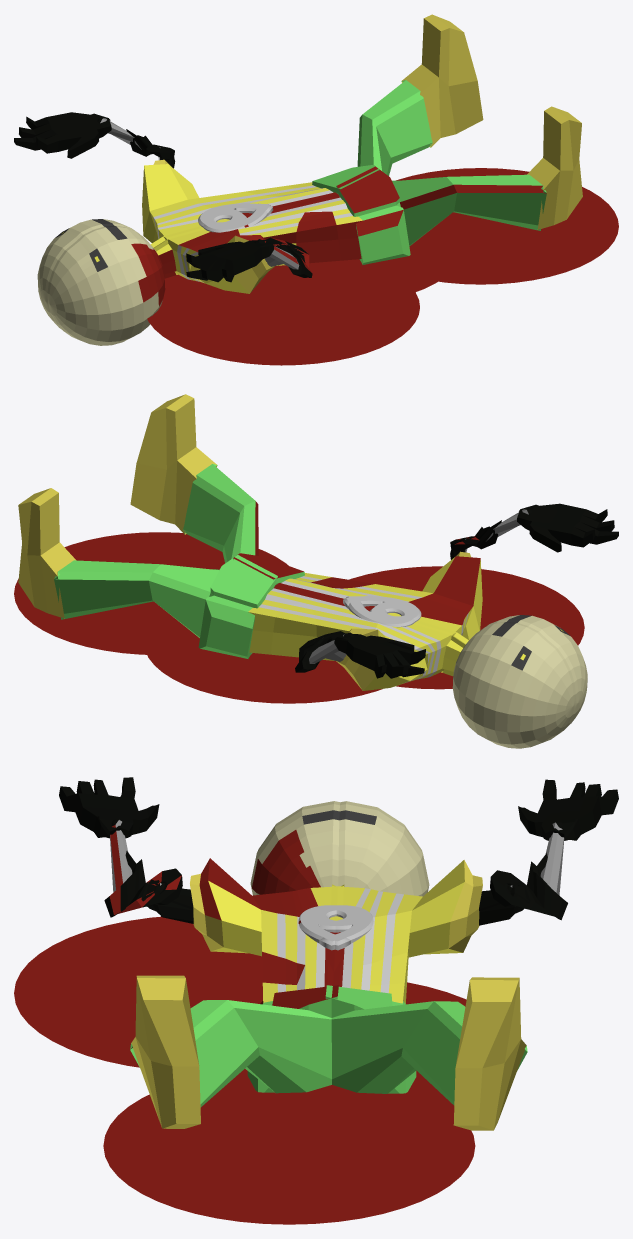
File: Murder.fbx
The picture shows the model from 3 angles, top to bottom: view 1: azimuth 30°, elevation 25°; view 2: azimuth 150°, elevation 25°; view 3: azimuth 270°, elevation 25°; orthographic projection. The views are drawn at different scales.
Parts seen in each view (by area): view 1: Cube.001, BezierCircle.001, BezierCircle.002, BezierCircle; view 2: Cube.001, BezierCircle, BezierCircle.002, BezierCircle.001; view 3: Cube.001, BezierCircle.002, BezierCircle.001, BezierCircle.
Boxes of the visible parts, left/top/right/bottom form: Cube.001: left=14, top=14, right=582, bottom=345; BezierCircle.001: left=147, top=268, right=419, bottom=365; BezierCircle.002: left=379, top=168, right=618, bottom=284; BezierCircle: left=235, top=219, right=463, bottom=306; Cube.001: left=18, top=394, right=618, bottom=748; BezierCircle: left=143, top=610, right=382, bottom=703; BezierCircle.002: left=14, top=532, right=288, bottom=654; BezierCircle.001: left=349, top=566, right=584, bottom=689; Cube.001: left=59, top=777, right=618, bottom=1130; BezierCircle.002: left=103, top=1070, right=475, bottom=1224; BezierCircle.001: left=14, top=916, right=262, bottom=1067; BezierCircle: left=190, top=982, right=466, bottom=1132.
Size of the model in its own units: 1394 by 446 by 1015.
